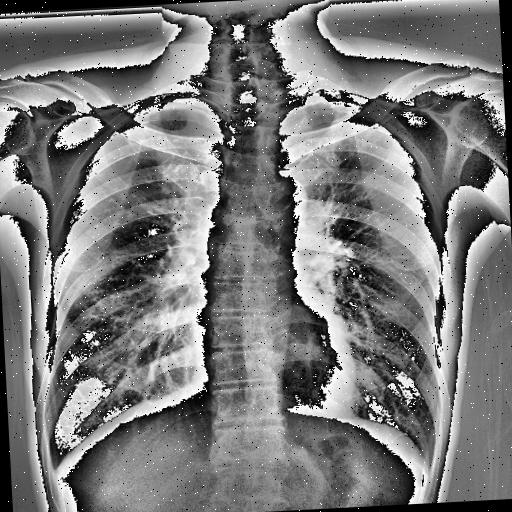0- Aortic enlargement: (248, 170, 310, 222)
11- Pleural thickening: (130, 93, 212, 116), (314, 91, 372, 121), (141, 96, 203, 116), (135, 98, 200, 114), (312, 96, 368, 114), (320, 98, 352, 110)
